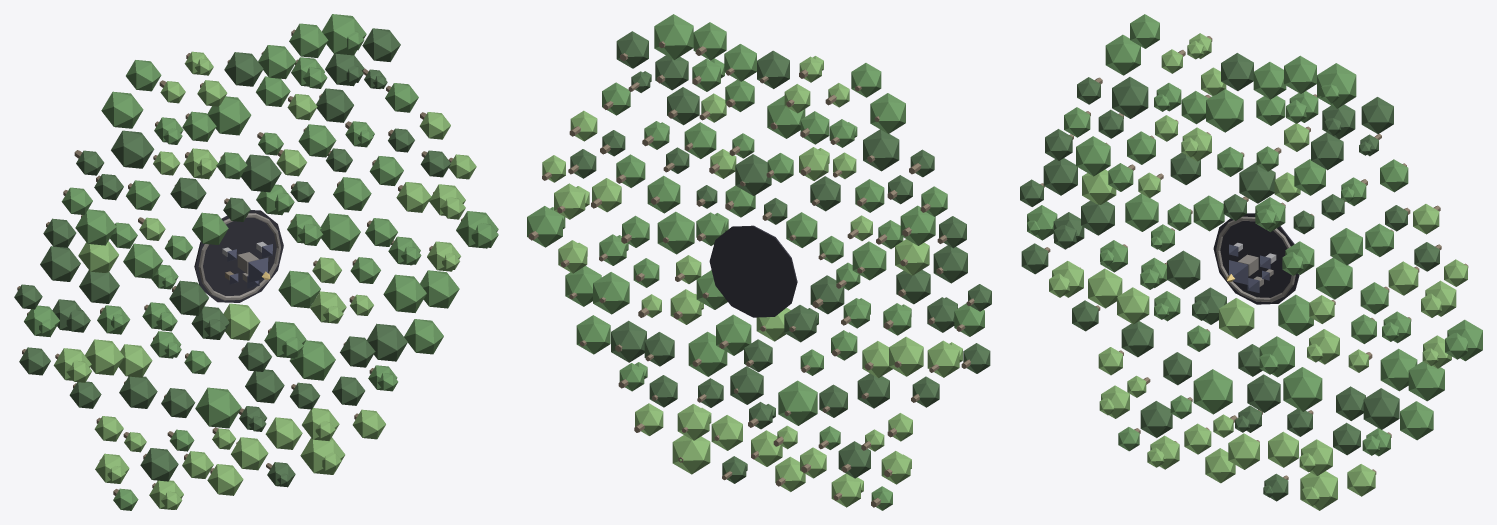
File: forest-city-vignette.glb
3 renders of one model, left to right at view 1: azimuth 30°, elevation 25°; view 2: azimuth 150°, elevation 25°; view 3: azimuth 330°, elevation 25°, orthographic. The views are drawn at different scales.
Visible parts, largest first — view 1: Vignette_CanopyMid, Vignette_CanopyDark, Vignette_CanopyLight, Vignette_DarkBase, Vignette_Trunk, Vignette_Stone, Vignette_Roof; view 2: Vignette_CanopyMid, Vignette_CanopyDark, Vignette_CanopyLight, Vignette_Trunk, Vignette_DarkBase; view 3: Vignette_CanopyMid, Vignette_CanopyDark, Vignette_CanopyLight, Vignette_DarkBase, Vignette_Stone, Vignette_Trunk, Vignette_Roof.
Part boxes in pixels (box(x1,y1,x2,y2)): Vignette_CanopyMid: box(24, 14, 498, 510); Vignette_CanopyDark: box(14, 28, 450, 487); Vignette_CanopyLight: box(53, 51, 476, 509); Vignette_DarkBase: box(194, 210, 283, 302); Vignette_Trunk: box(17, 29, 462, 495); Vignette_Stone: box(198, 213, 280, 300); Vignette_Roof: box(227, 244, 272, 288); Vignette_CanopyMid: box(527, 14, 984, 510); Vignette_CanopyDark: box(570, 31, 991, 483); Vignette_CanopyLight: box(542, 56, 962, 507); Vignette_Trunk: box(528, 41, 974, 507); Vignette_DarkBase: box(709, 225, 797, 317); Vignette_CanopyMid: box(1027, 14, 1482, 456); Vignette_CanopyDark: box(1020, 53, 1439, 501); Vignette_CanopyLight: box(1049, 33, 1467, 510); Vignette_DarkBase: box(1213, 213, 1299, 304); Vignette_Stone: box(1216, 216, 1295, 302); Vignette_Trunk: box(1040, 36, 1468, 479); Vignette_Roof: box(1229, 244, 1270, 292).
Bounding box in the file's own units: 9.07 × 8.35 × 1.07.
